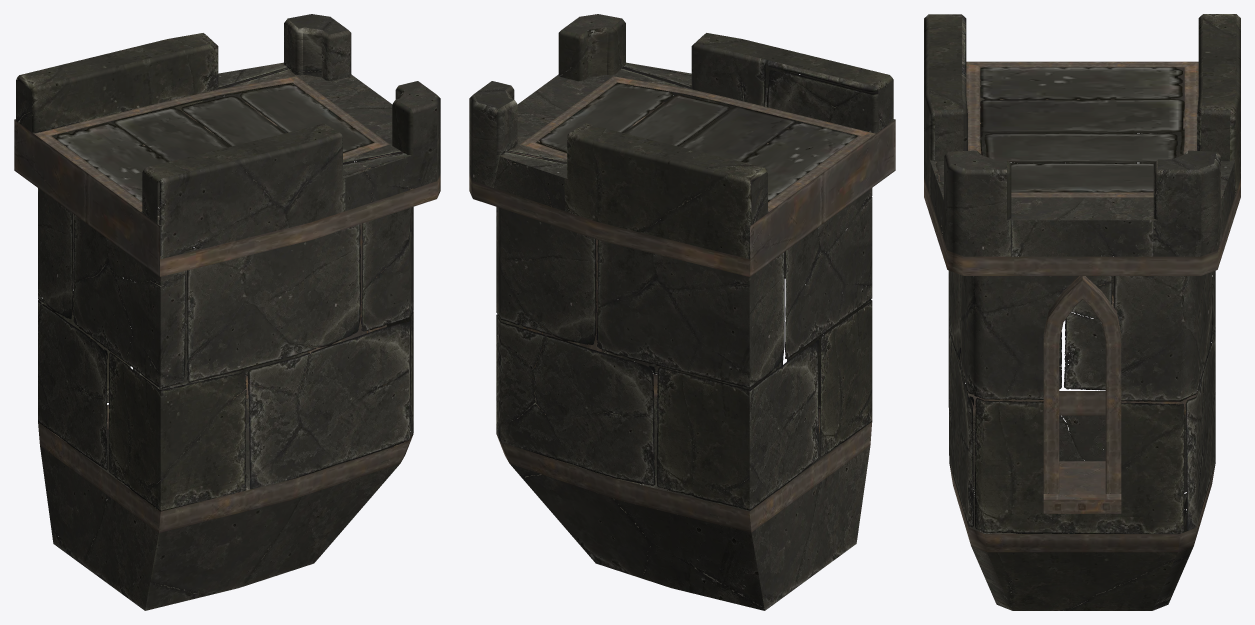
The picture shows the model from 3 angles, left to right: view 1: azimuth 30°, elevation 25°; view 2: azimuth 150°, elevation 25°; view 3: azimuth 270°, elevation 25°; orthographic projection. The views are drawn at different scales.
Parts seen in each view (by area): view 1: SM_Dowdun_Buttress_A_03_LOD0; view 2: SM_Dowdun_Buttress_A_03_LOD0; view 3: SM_Dowdun_Buttress_A_03_LOD0.
Boxes of the visible parts, x1=… form: SM_Dowdun_Buttress_A_03_LOD0: x1=14, y1=14, x2=440, y2=610; SM_Dowdun_Buttress_A_03_LOD0: x1=469, y1=14, x2=895, y2=610; SM_Dowdun_Buttress_A_03_LOD0: x1=924, y1=14, x2=1240, y2=610.
Size of the model in its own units: 2.95 by 4.21 by 2.46.
2 materials, 2 textured.
